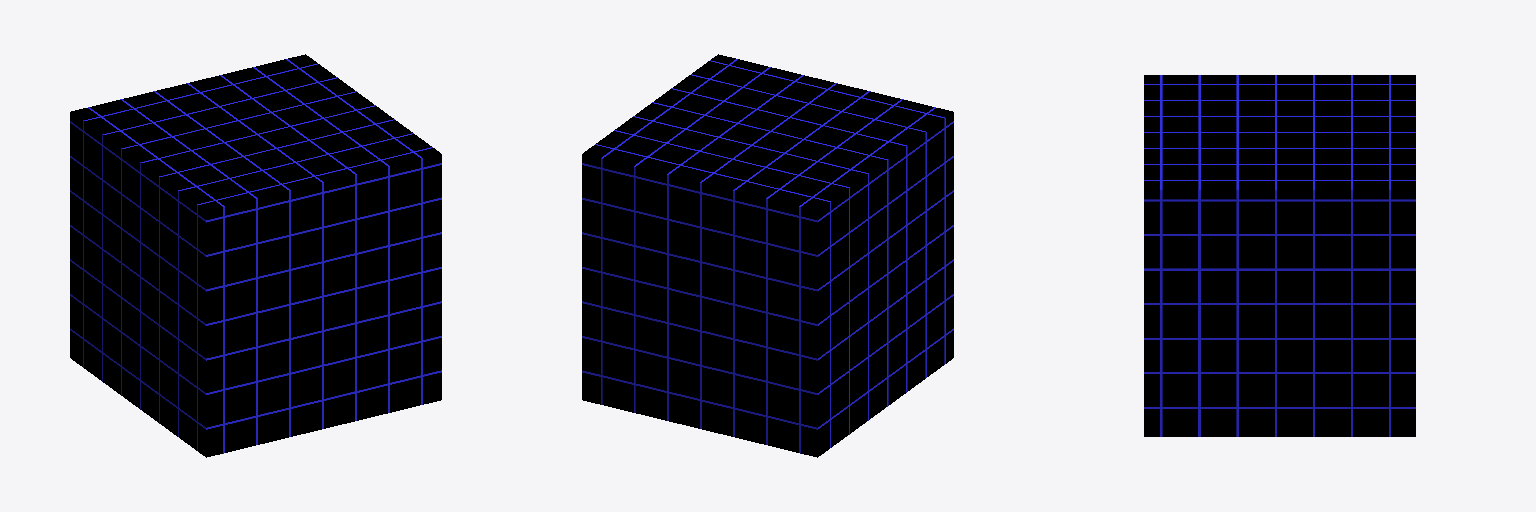
3 views of the same model, side by side, from view 1: azimuth 30°, elevation 25°; view 2: azimuth 150°, elevation 25°; view 3: azimuth 270°, elevation 25° (orthographic).
Visible parts, largest first — view 1: pCube7; view 2: pCube7; view 3: pCube7.
Boxes of the visible parts, box(x1,y1,x2,y2) form: pCube7: box(70, 54, 441, 457); pCube7: box(582, 54, 953, 457); pCube7: box(1144, 75, 1415, 436).
Size of the model in its own units: 1 by 1 by 1.
1 materials, 1 textured.